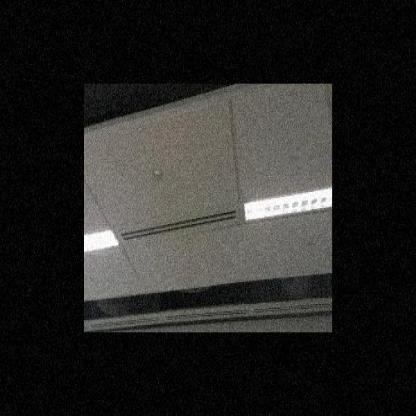light_on: (239, 178, 332, 228), (84, 221, 123, 260)
